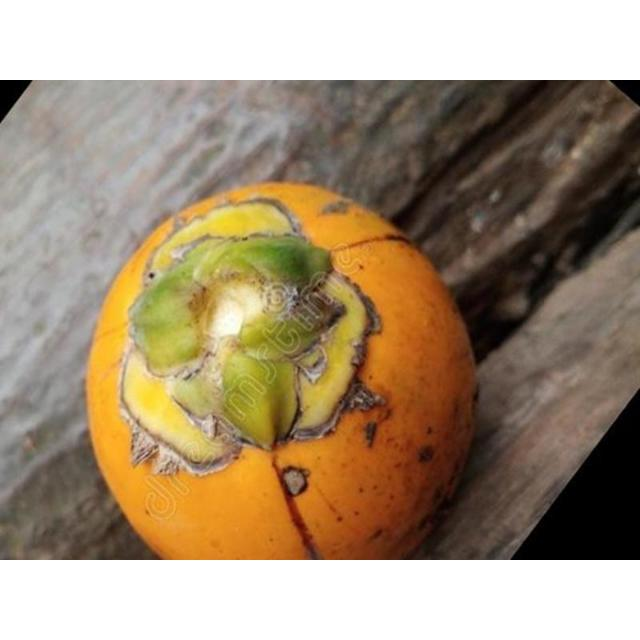good: (86, 182, 478, 559)
